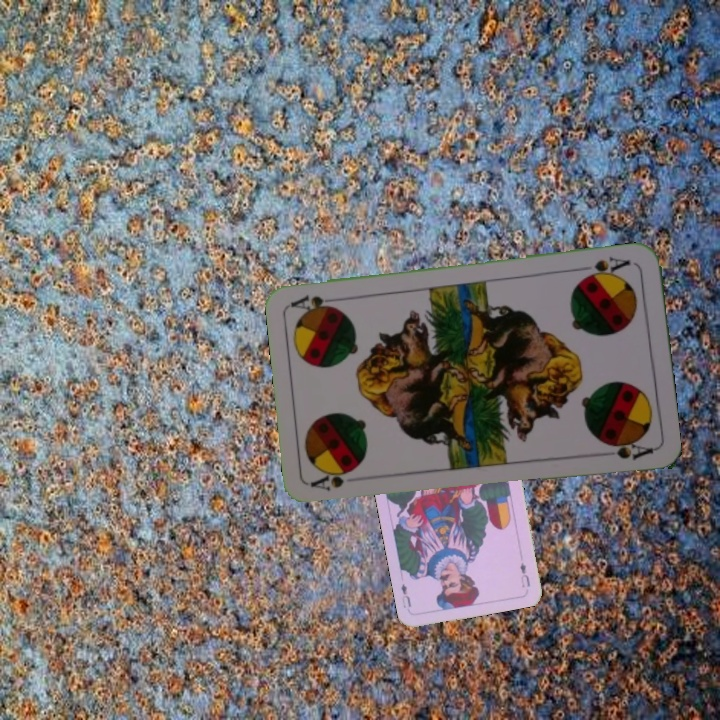EU: (516, 558, 533, 590)
SA: (578, 253, 632, 282), (308, 465, 360, 494)
